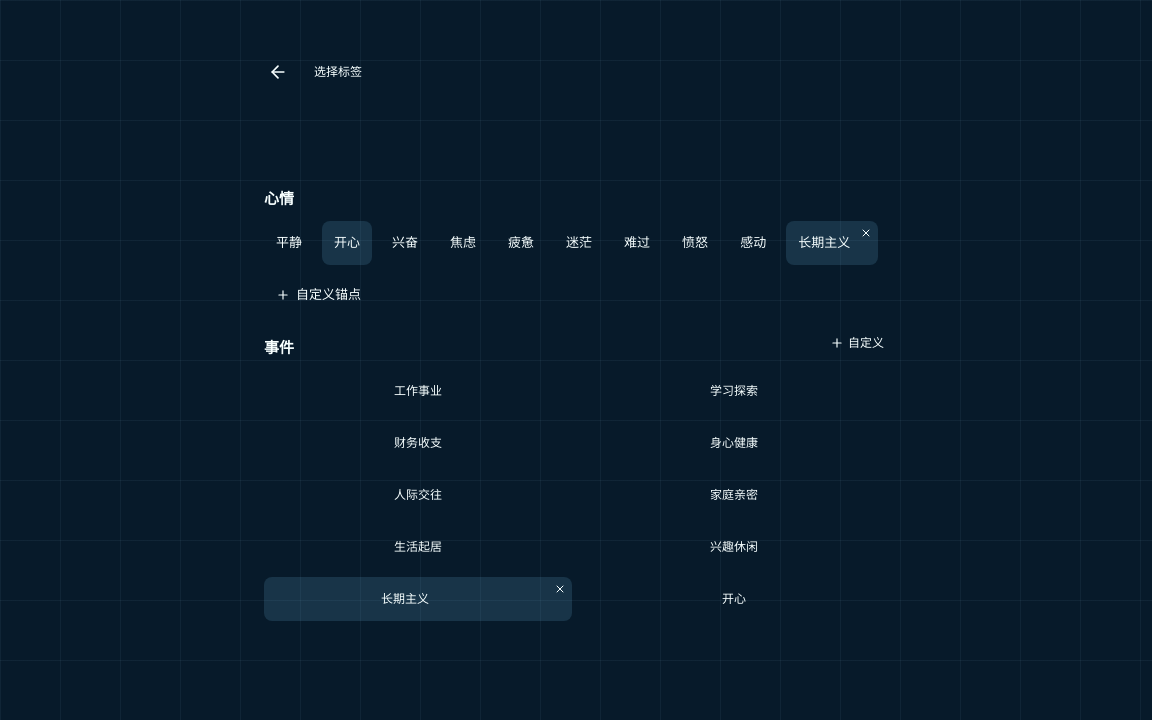
Scenario: TagSelectPage › deletes a custom tag from storage and both draft selections without deleting built-ins
Click the button named "删除事件自定义标签 长期主义". click: (560, 589)
box: x1=548 y1=577 x2=572 y2=601
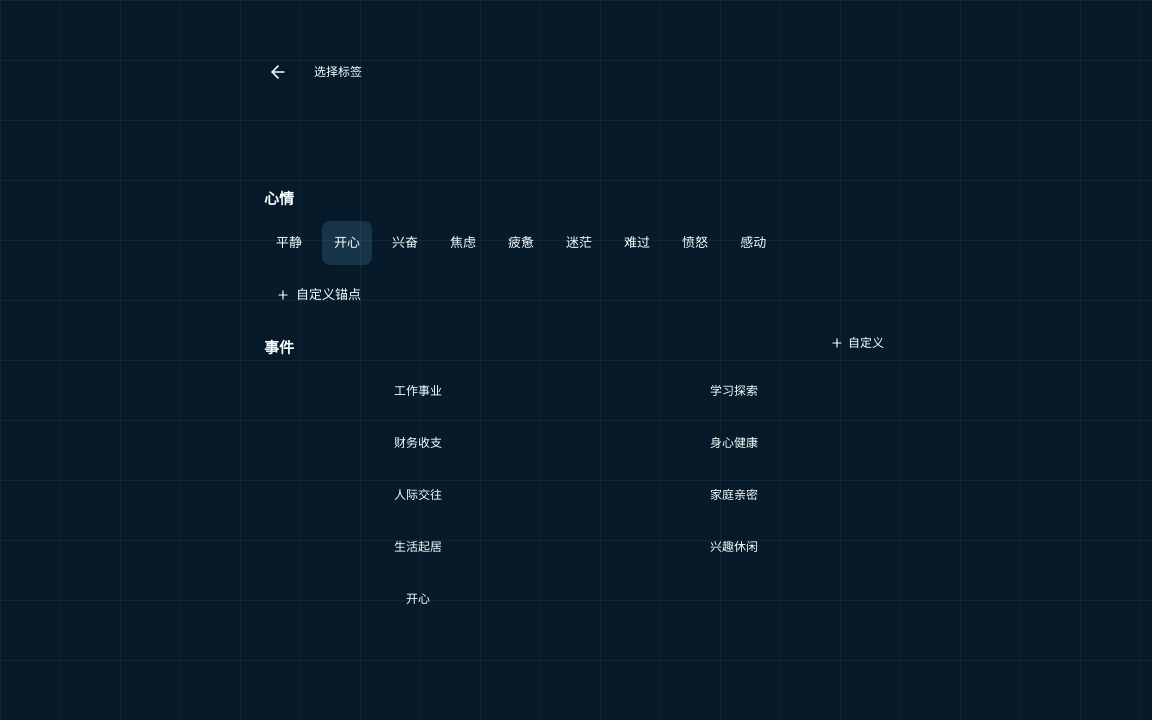
Expected: the button "长期主义" is gone
